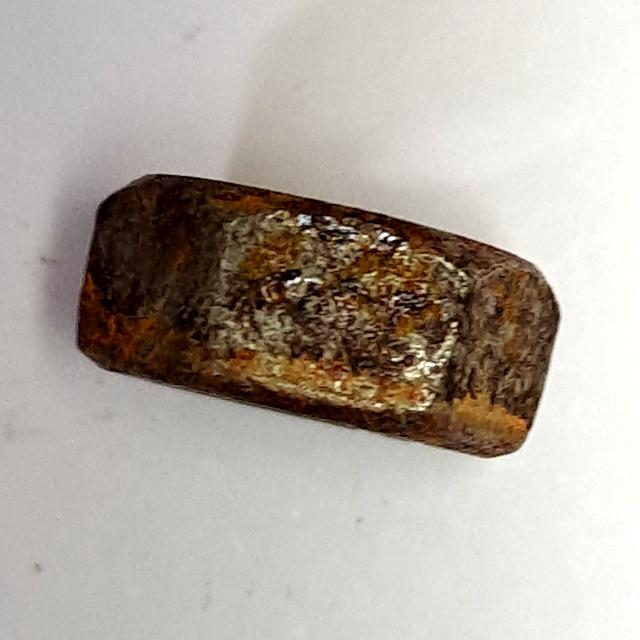Side_Rust: (60, 164, 574, 467)
